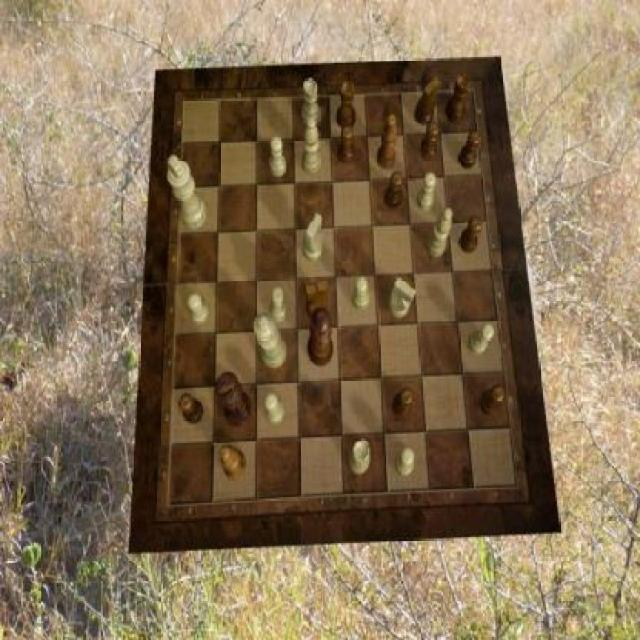bishop: (377, 112, 397, 170), (218, 444, 246, 480)
black-bishop: (215, 372, 252, 427)
black-king: (415, 77, 440, 126), (306, 280, 329, 322)
black-knight: (458, 131, 482, 168), (480, 385, 506, 417), (460, 217, 483, 253), (420, 123, 440, 162), (180, 394, 205, 424), (384, 171, 404, 208), (338, 124, 356, 164), (392, 388, 415, 418)
black-pawn: (308, 308, 334, 368)
black-queen: (446, 74, 471, 124), (337, 80, 357, 129)
black-rook: (426, 210, 453, 258), (302, 117, 322, 175)
white-bishop: (168, 155, 208, 230)
white-king: (389, 277, 417, 318), (303, 214, 323, 261)
white-knight: (468, 325, 494, 357), (417, 174, 437, 212), (264, 392, 286, 425), (269, 137, 286, 177), (188, 294, 208, 326), (352, 275, 370, 310), (269, 288, 287, 322), (396, 448, 414, 477)
white-pawn: (254, 311, 287, 368)
white-queen: (302, 78, 322, 128), (348, 438, 370, 474)
